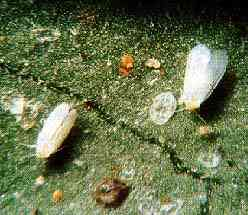whitefly: (170, 44, 229, 124), (26, 99, 80, 164)
